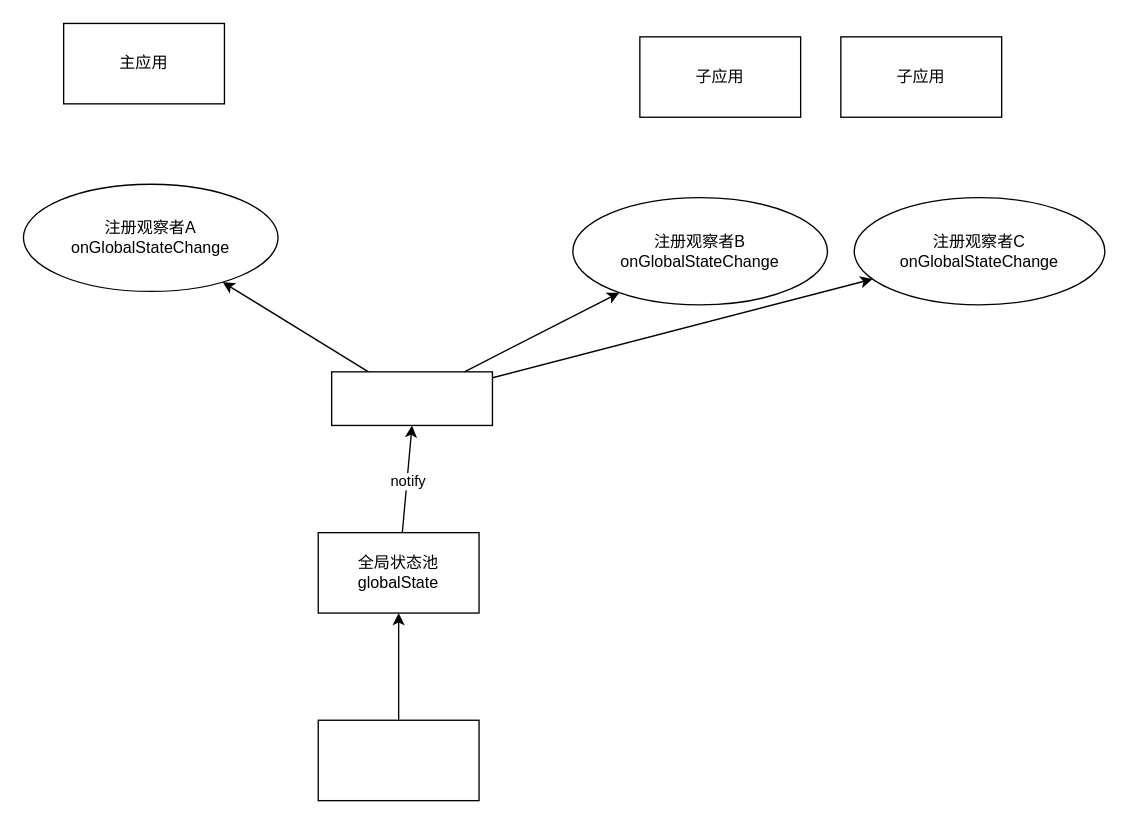
Image size: 1128x824. Some labels were removed from this diagram. Each missing label, with the centre of its shape:
主应用/子应用 更新state setGlobalState: the point at 398,760
观察者池子 ABC: the point at 411,398
